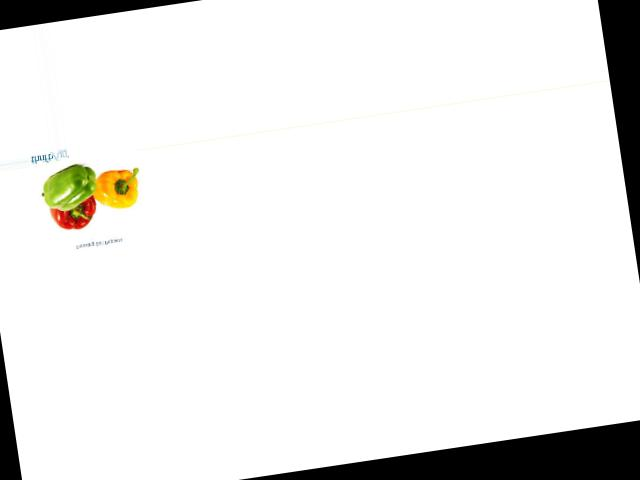bell_pepper: (36, 156, 104, 212)
